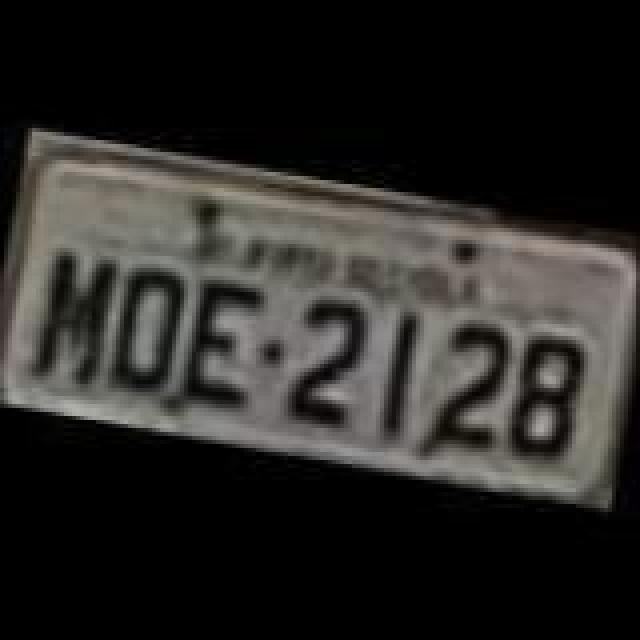1: (364, 312, 432, 444)
2: (426, 316, 526, 456), (278, 294, 374, 434)
8: (496, 330, 592, 462)
E: (174, 270, 270, 414)
M: (26, 244, 122, 388)
O: (102, 258, 198, 394)
